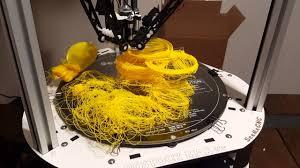fail: (61, 68, 208, 151), (114, 36, 201, 90)
